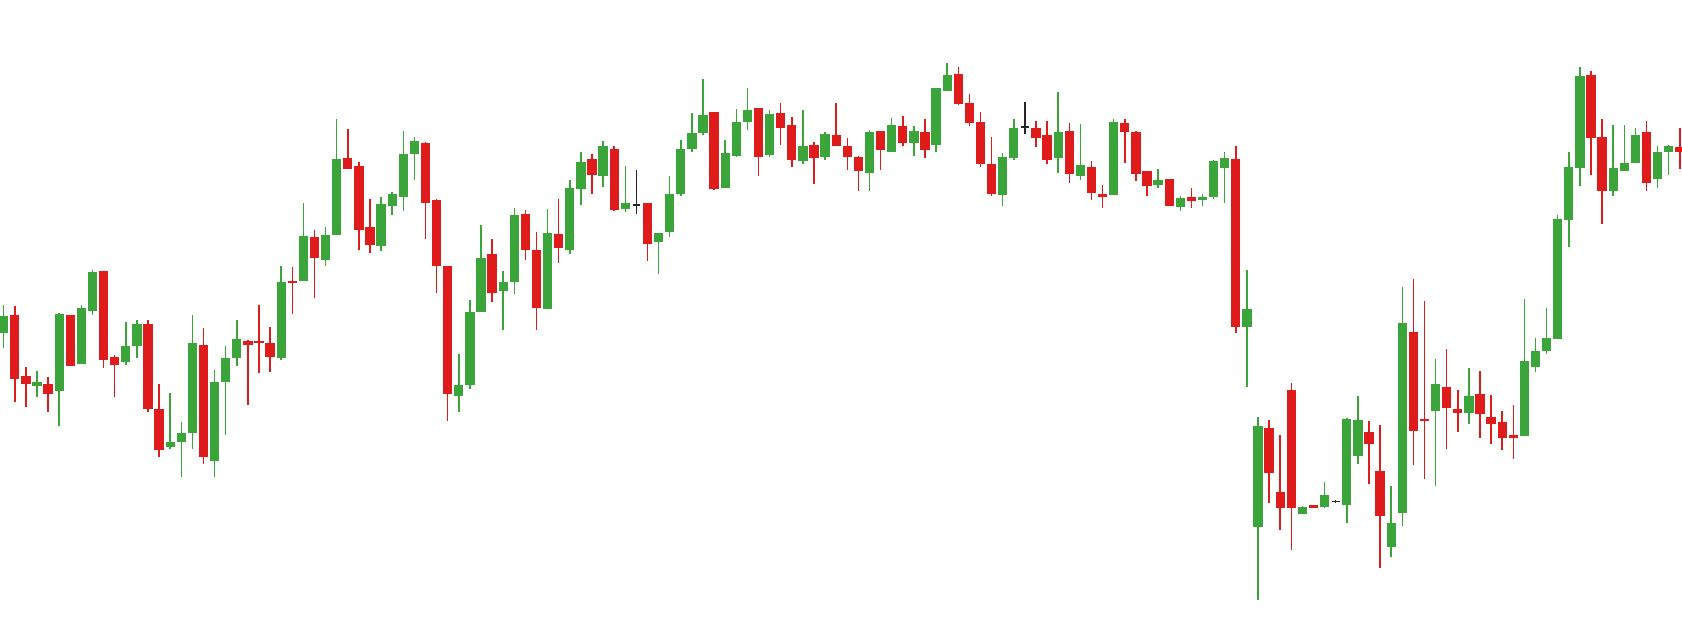buy: (252, 236, 476, 427), (51, 338, 200, 480)
sell: (596, 77, 724, 197), (831, 62, 965, 141)
